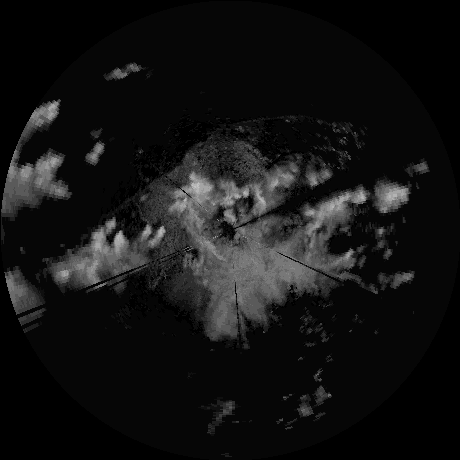frontgust: (212, 112, 364, 160)
